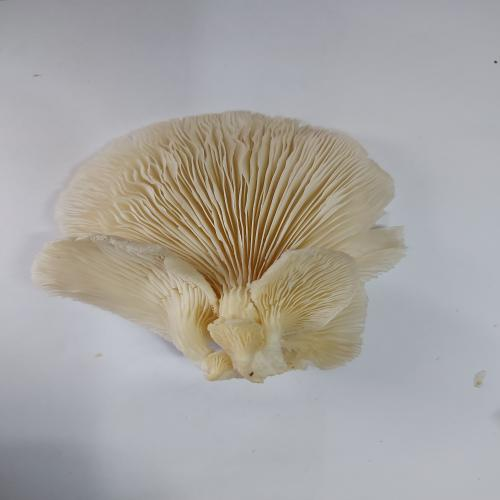Oyster Mushroom: (30, 109, 408, 384)
